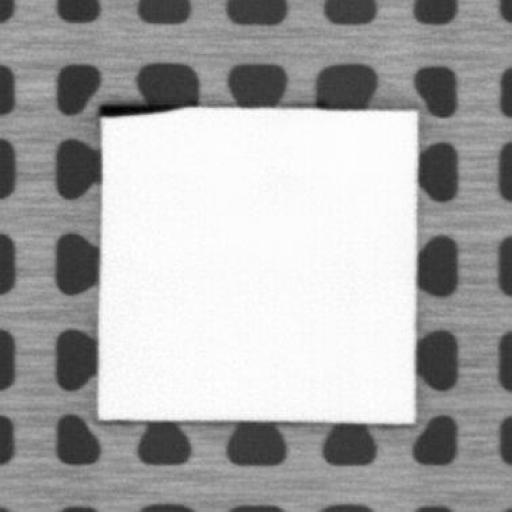DIE_BROKEN: (95, 98, 183, 118)
